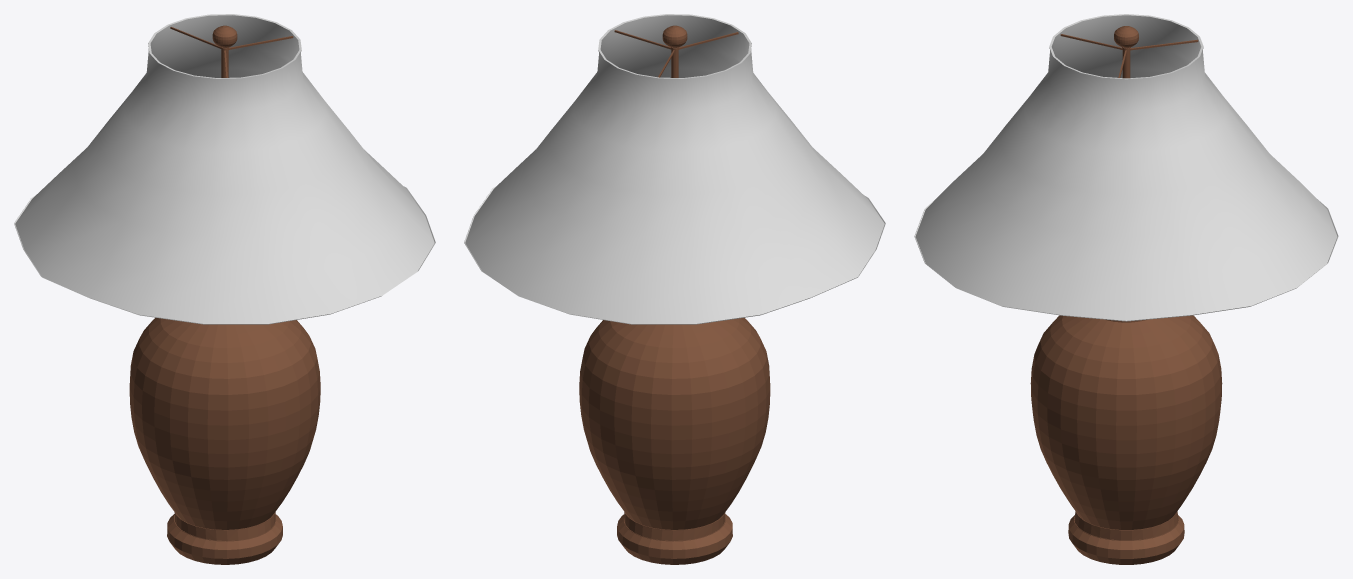
The model's file is maya2sketchfab.fbx.
3 views of the same model, side by side, from view 1: azimuth 30°, elevation 25°; view 2: azimuth 150°, elevation 25°; view 3: azimuth 270°, elevation 25° (orthographic).
Visible parts, largest first — view 1: pCone1, pCube2; view 2: pCone1, pCube2; view 3: pCone1, pCube2.
Part boxes in pixels (x1,y1,x2,y2): pCone1: [14, 14, 435, 324]; pCube2: [129, 25, 320, 564]; pCone1: [464, 14, 885, 324]; pCube2: [579, 25, 770, 564]; pCone1: [914, 14, 1338, 321]; pCube2: [1030, 26, 1222, 564].
Bounding box in the file's own units: 3.84 × 5.17 × 3.85.
